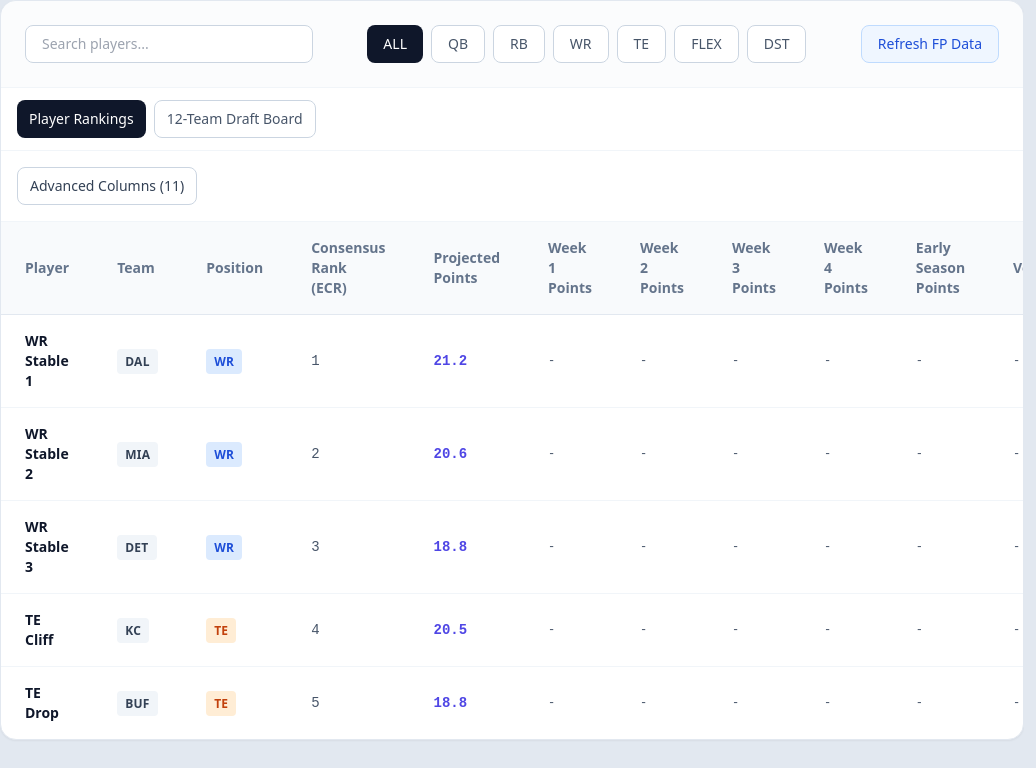
Test: DashboardClient › boosts a last-in-tier starter with Tier Drop Warning to draft before the cliff
Click the tab with test id "tab-draft-board": (235, 119) [154,100,316,138]
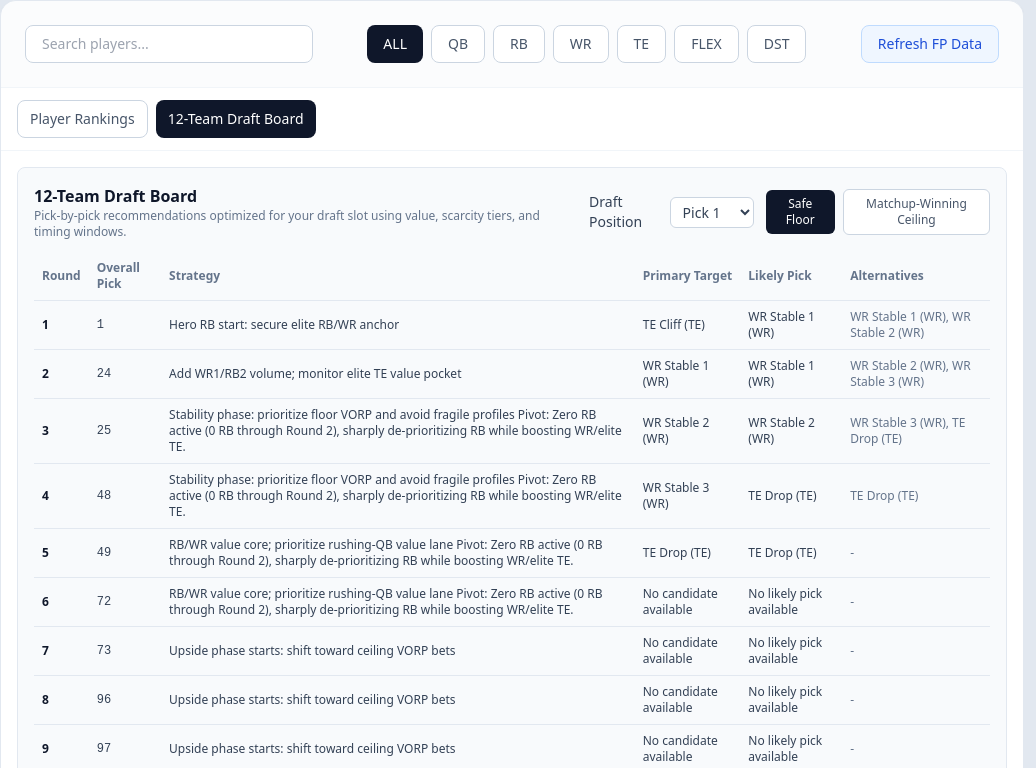
Check: the cell with test id "draft-board-primary-1" reads "TE Cliff (TE)", box [643,316,705,333]
